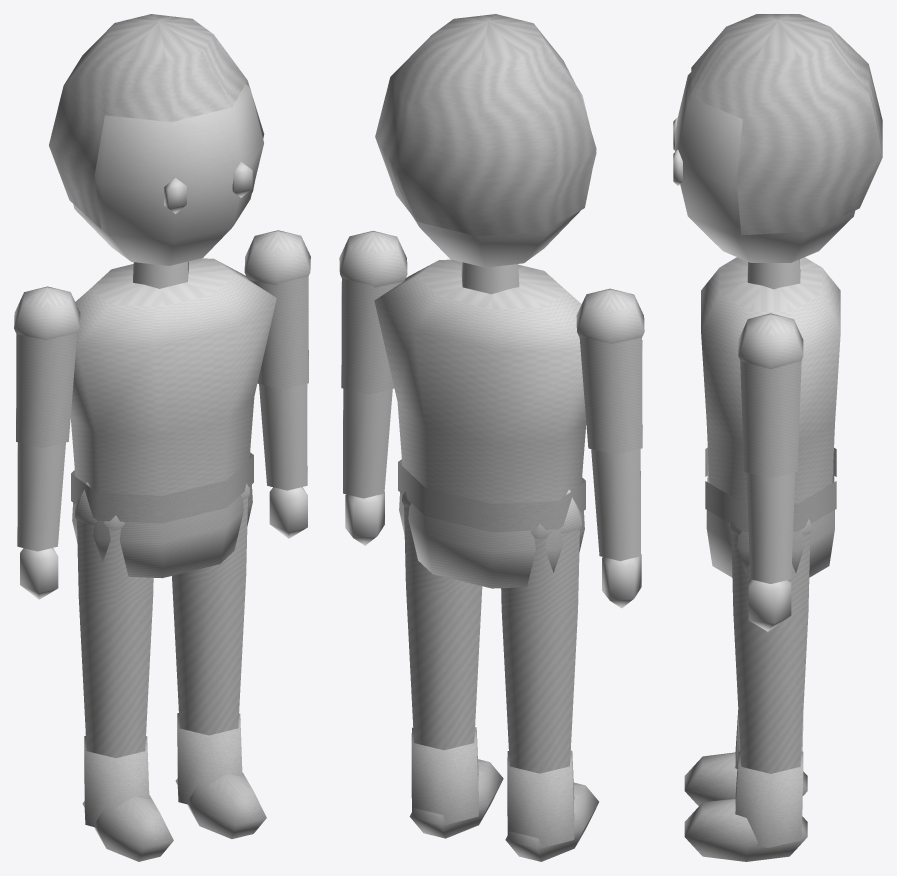
File: char_base_a_lod2.glb
The picture shows the model from 3 angles, left to right: view 1: azimuth 30°, elevation 25°; view 2: azimuth 150°, elevation 25°; view 3: azimuth 270°, elevation 25°; orthographic projection. The views are drawn at different scales.
Parts seen in each view (by area): view 1: core, leg_r, leg_l, arm_r, arm_l; view 2: core, leg_r, leg_l, arm_r, arm_l; view 3: core, leg_l, arm_l, leg_r.
Boxes of the visible parts, box(x1,y1,x2,y2) form: core: box(49, 14, 276, 578); leg_r: box(75, 482, 173, 861); leg_l: box(172, 483, 266, 838); arm_r: box(14, 286, 80, 599); arm_l: box(244, 230, 310, 538); core: box(374, 14, 596, 588); leg_r: box(501, 489, 598, 861); leg_l: box(402, 491, 503, 838); arm_r: box(576, 288, 644, 608); arm_l: box(339, 231, 407, 545); core: box(673, 14, 882, 577); leg_l: box(684, 519, 812, 861); arm_l: box(738, 313, 803, 631); leg_r: box(684, 710, 807, 806).
Bounding box in the file's own units: 0.5613 × 1.46 × 0.3394.
Materials: 6 (6 with a texture image).
